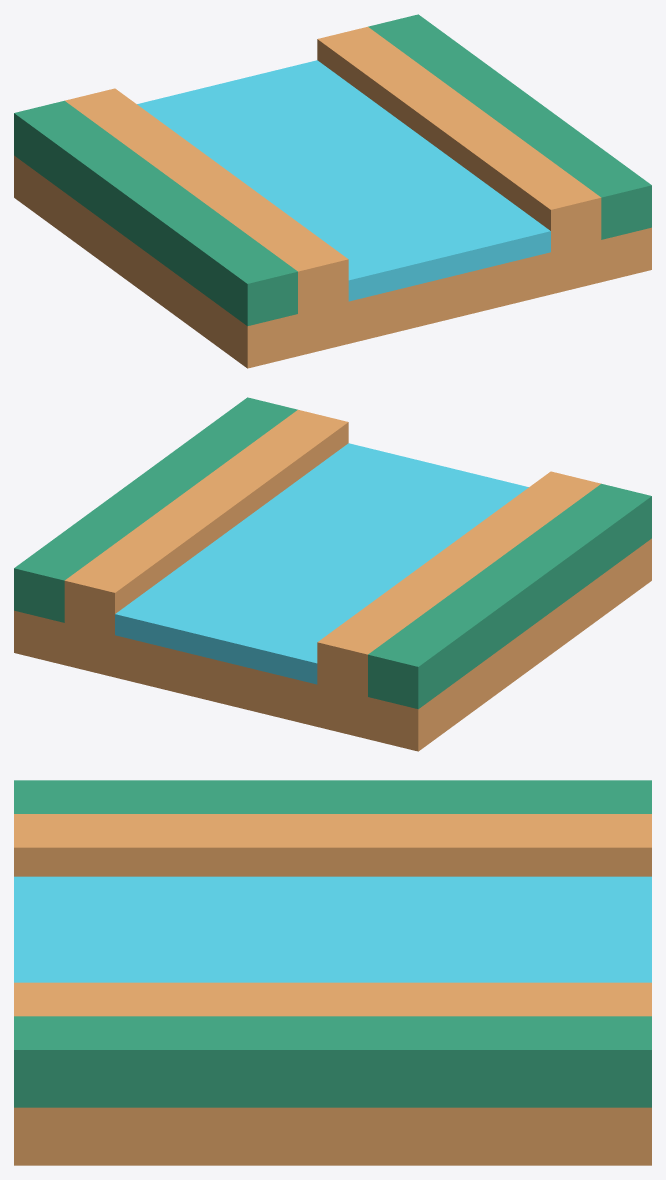
Rendered from tile_riverStraight.dae.
The picture shows the model from 3 angles, top to bottom: view 1: azimuth 30°, elevation 25°; view 2: azimuth 150°, elevation 25°; view 3: azimuth 270°, elevation 25°; orthographic projection. The views are drawn at different scales.
Visible parts, largest first — view 1: tile_riverStraight; view 2: tile_riverStraight; view 3: tile_riverStraight.
Boxes of the visible parts, box(x1,y1,x2,y2) form: tile_riverStraight: box(14, 14, 651, 368); tile_riverStraight: box(14, 397, 651, 751); tile_riverStraight: box(14, 780, 651, 1165).
Size of the model in its own units: 1 by 0.2 by 1.
